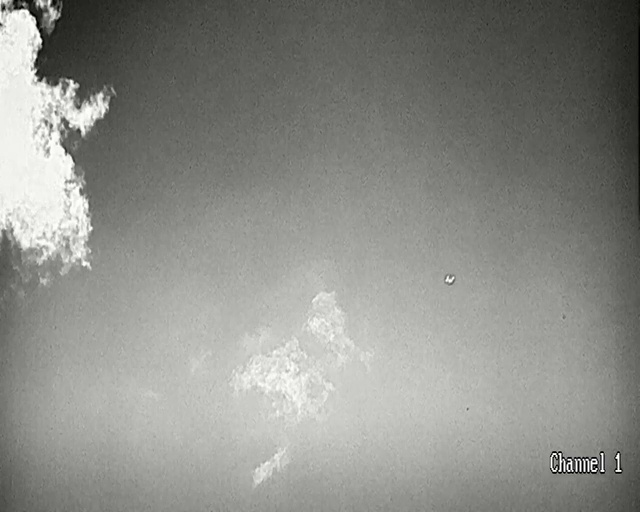uav: (445, 275, 454, 283)
